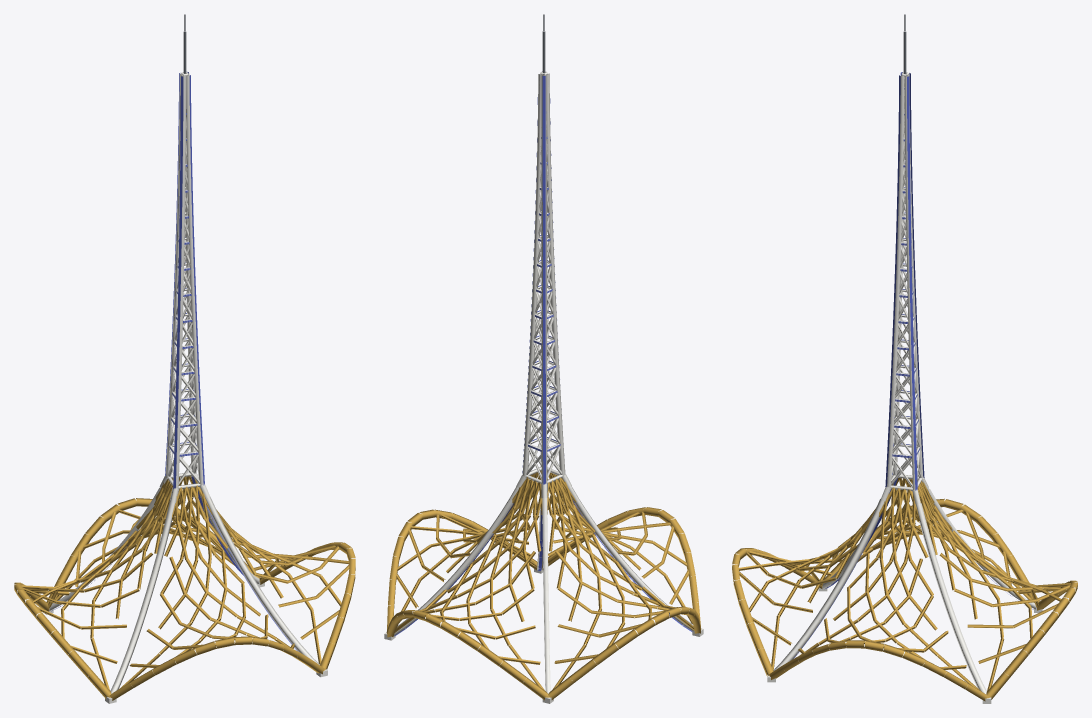
File: melbourne-arts-centre-spire.glb
3 renders of one model, left to right at view 1: azimuth 30°, elevation 25°; view 2: azimuth 150°, elevation 25°; view 3: azimuth 270°, elevation 25°, orthographic.
Parts seen in each view (by area): view 1: Arts Centre Melbourne Spire; view 2: Arts Centre Melbourne Spire; view 3: Arts Centre Melbourne Spire.
Boxes of the visible parts, bbox=[...] form: Arts Centre Melbourne Spire: bbox=[14, 14, 355, 703]; Arts Centre Melbourne Spire: bbox=[384, 14, 703, 703]; Arts Centre Melbourne Spire: bbox=[732, 14, 1077, 703].
Bounding box in the file's own units: 72.97 × 147 × 72.97.
